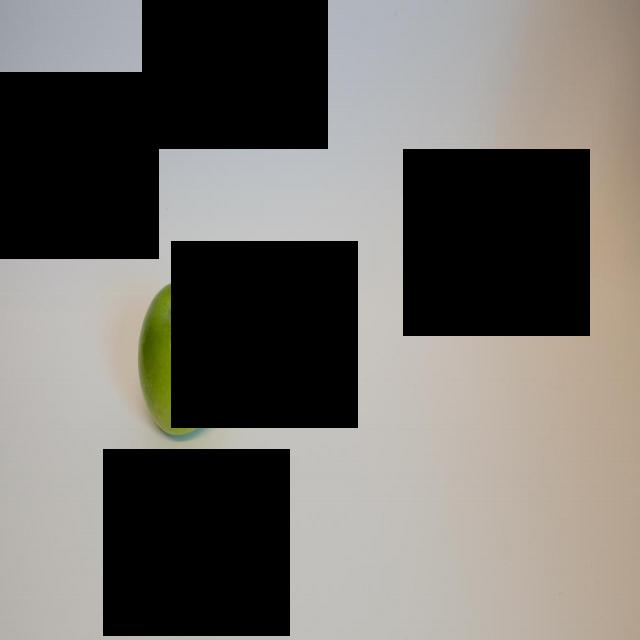apple: (135, 275, 229, 443)
